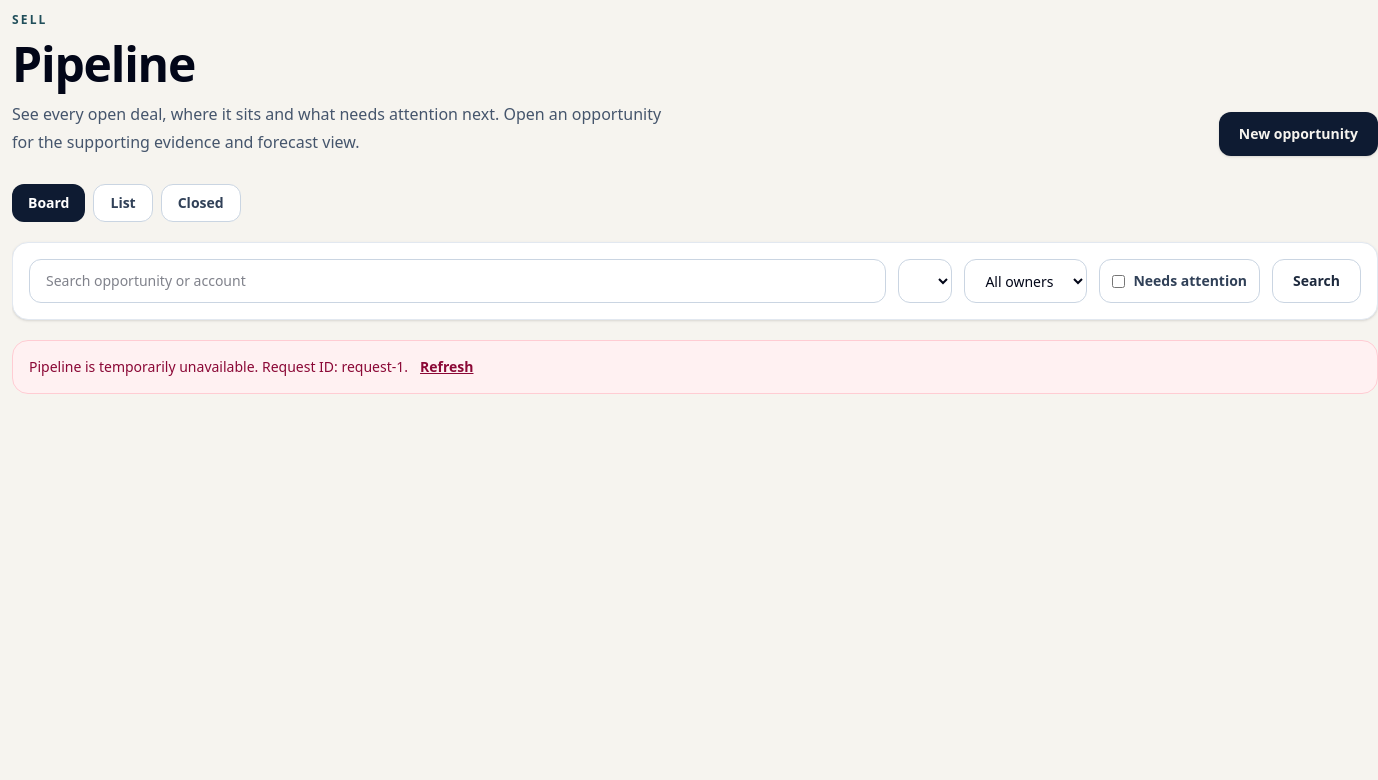
Scenario: OpportunityList › shows a recoverable safe error
Expected: the message shows "Pipeline is temporarily unavailable.", x1=29 y1=357 x2=408 y2=376
Click the button "Refresh" at (447, 367), box x1=420 y1=357 x2=474 y2=377
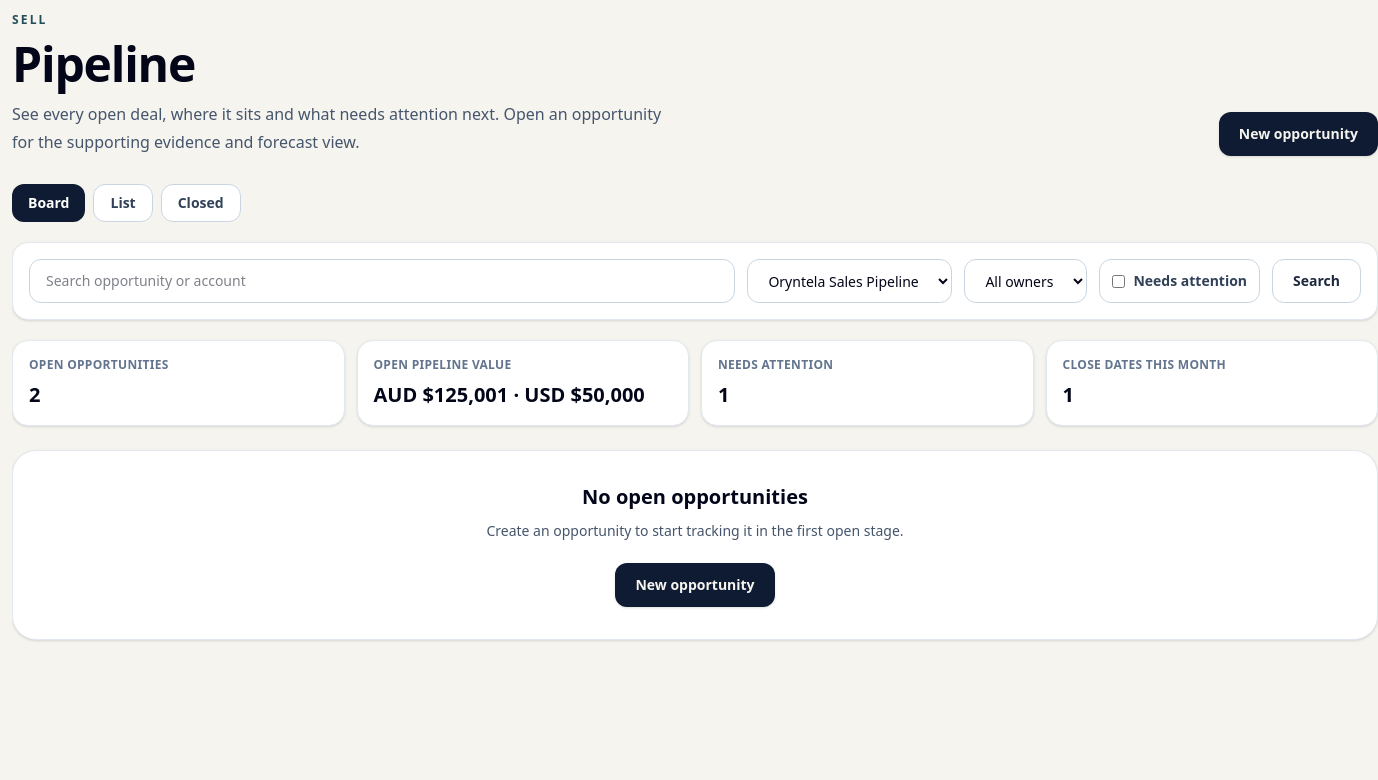
Expected: the heading "No open opportunities" is shown, x1=582 y1=483 x2=808 y2=510
